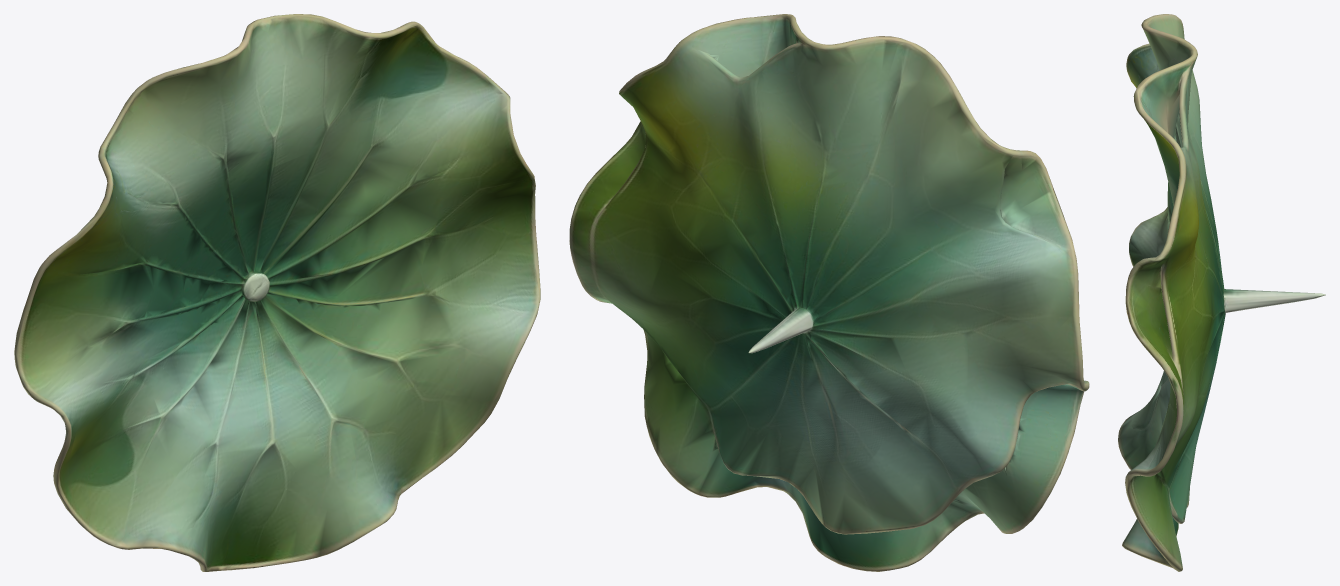
File: lotusLeaf.glb
The picture shows the model from 3 angles, left to right: view 1: azimuth 30°, elevation 25°; view 2: azimuth 150°, elevation 25°; view 3: azimuth 270°, elevation 25°; orthographic projection. The views are drawn at different scales.
Visible parts, largest first — view 1: node_0; view 2: node_0; view 3: node_0.
Part boxes in pixels (x1=…): node_0: x1=14, y1=14, x2=540, y2=571; node_0: x1=569, y1=14, x2=1089, y2=571; node_0: x1=1118, y1=14, x2=1325, y2=571.
Size of the model in its own units: 0.3999 by 0.3953 by 0.1493.
1 material, 1 textured.
